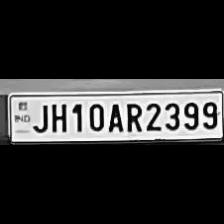0: (84, 100, 106, 132)
1: (68, 102, 84, 132)
2: (142, 100, 162, 132)
3: (162, 99, 180, 131)
9: (181, 98, 199, 130), (200, 98, 218, 130)
A: (106, 100, 122, 132)
H: (46, 100, 68, 132)
J: (31, 102, 47, 132)
R: (122, 100, 142, 132)
